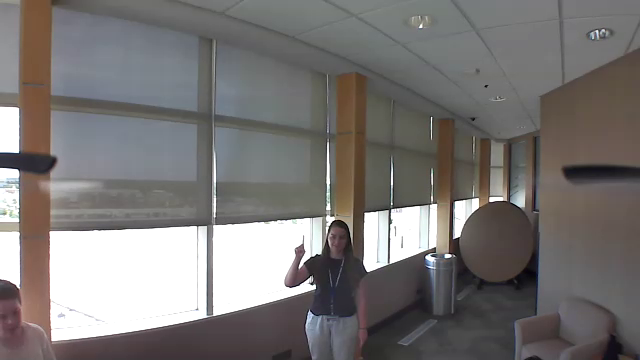up: (290, 232, 308, 261)
